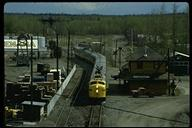grass: (74, 16, 187, 33)
house: (123, 42, 171, 76)
train: (71, 45, 110, 102)
